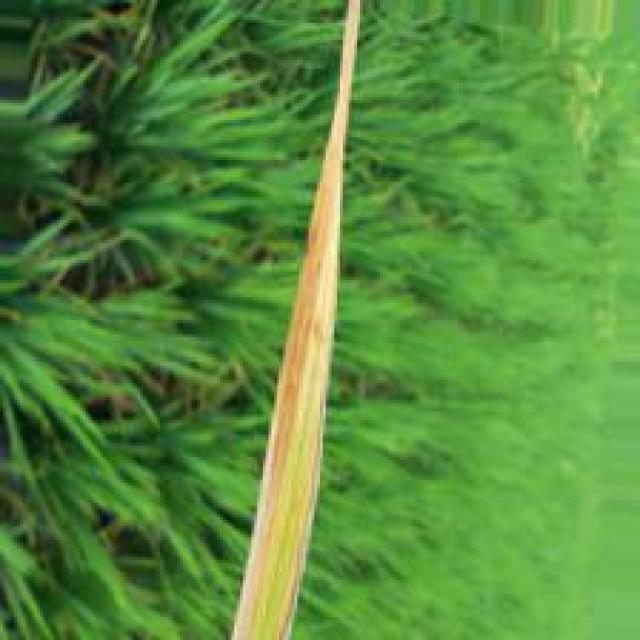Bacterial_Leaf_Blight: (231, 144, 350, 637)
